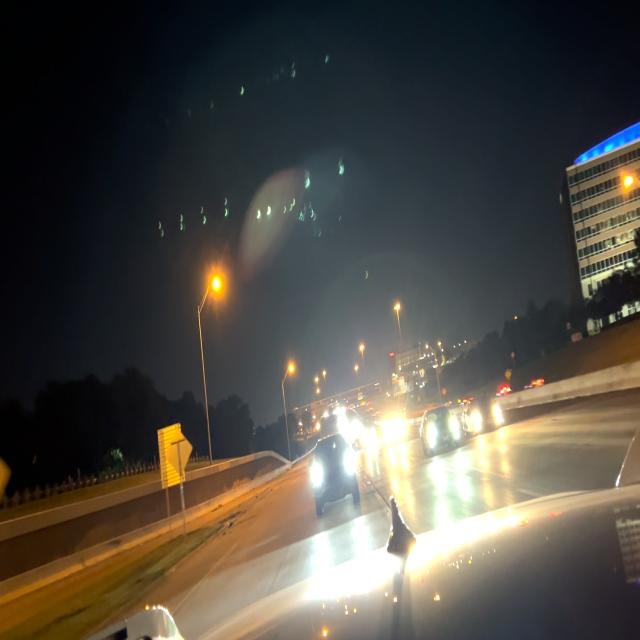back-of-sign: (156, 423, 183, 486), (166, 426, 190, 479)
